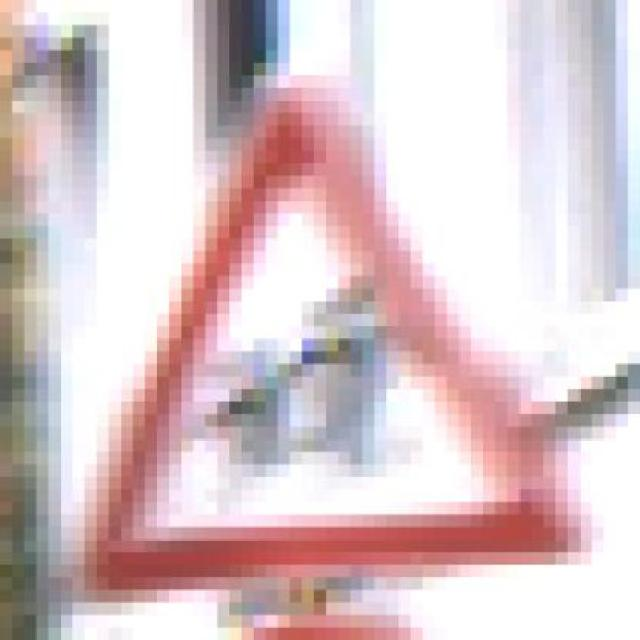Beware of children: (72, 50, 605, 615)
